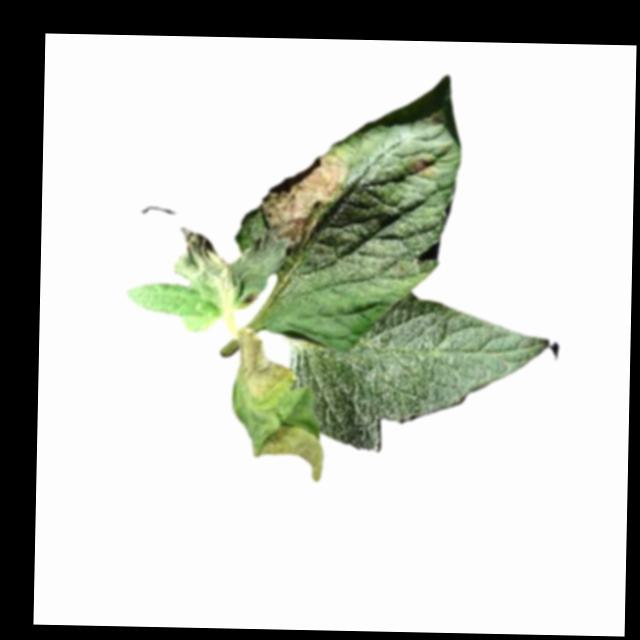Late_blight: (172, 226, 289, 312), (260, 152, 347, 257), (247, 408, 326, 482), (234, 324, 295, 409), (403, 154, 434, 179)
